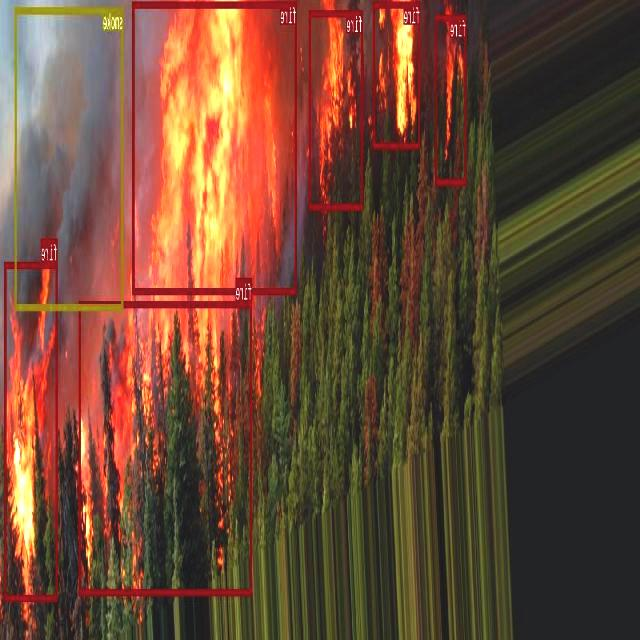fire: (79, 301, 253, 594), (132, 0, 298, 294), (5, 260, 58, 600), (310, 10, 364, 209), (373, 0, 421, 148), (436, 13, 467, 185)
smoke: (15, 6, 124, 309)
